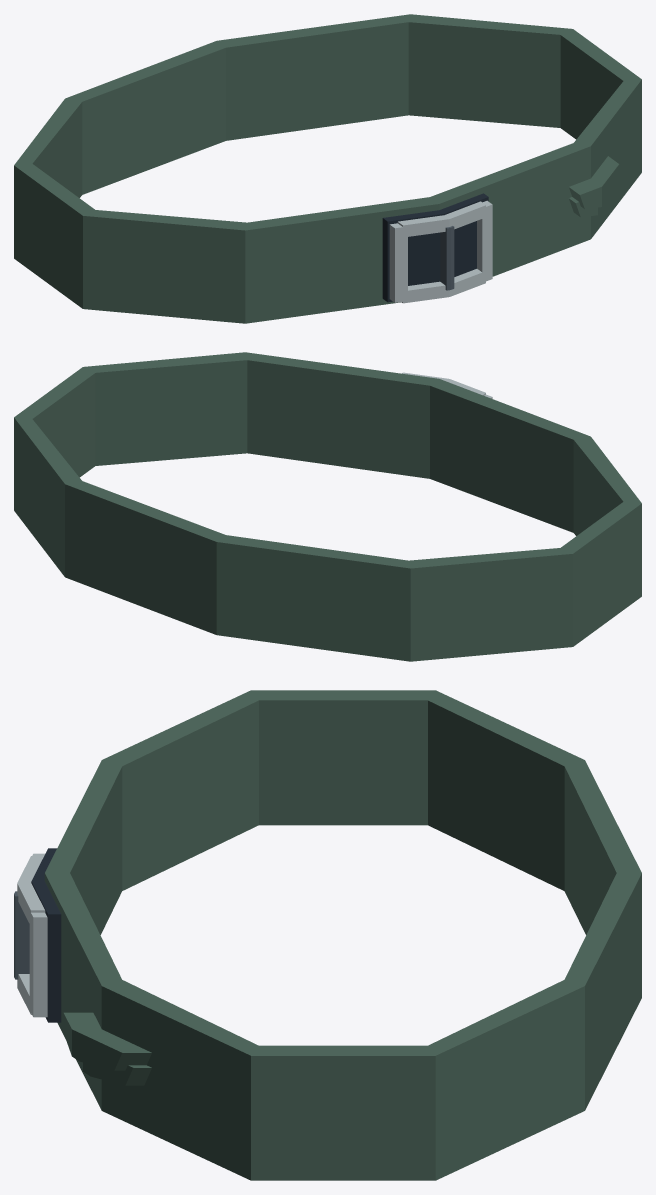
Rendered from leather_waist-male-scaledHide.glb.
3 renders of one model, top to bottom at view 1: azimuth 30°, elevation 25°; view 2: azimuth 150°, elevation 25°; view 3: azimuth 270°, elevation 25°, orthographic. The views are drawn at different scales.
Parts seen in each view (by area): view 1: leather waist band, Buckle recessed backplate, Buckle side rail -0.145, Lapped hide reinforcement leather waist band 0, Buckle cross rail 4.506, Buckle cross rail 4.294, Buckle side rail 0.145, Buckle pin; view 2: leather waist band; view 3: leather waist band, Lapped hide reinforcement leather waist band 0, Buckle recessed backplate, Buckle side rail 0.145, Buckle pin, Lapped hide reinforcement leather waist band 1, Buckle cross rail 4.506.
Part boxes in pixels (x1,y1,x2,y2): leather waist band: (14, 14, 641, 323); Buckle recessed backplate: (382, 193, 488, 302); Buckle side rail -0.145: (389, 223, 407, 302); Lapped hide reinforcement leather waist band 0: (569, 156, 619, 209); Buckle cross rail 4.506: (397, 201, 485, 236); Buckle cross rail 4.294: (401, 269, 485, 303); Buckle side rail 0.145: (477, 200, 492, 282); Buckle pin: (440, 226, 454, 290); leather waist band: (14, 352, 641, 661); leather waist band: (44, 690, 641, 1180); Lapped hide reinforcement leather waist band 0: (63, 1012, 151, 1070); Buckle recessed backplate: (31, 848, 61, 1022); Buckle side rail 0.145: (29, 911, 47, 1017); Buckle pin: (14, 891, 29, 979); Lapped hide reinforcement leather waist band 1: (79, 1062, 151, 1085); Buckle cross rail 4.506: (17, 856, 45, 925).
Size of the model in its own units: 1.88 by 0.3 by 1.37.
